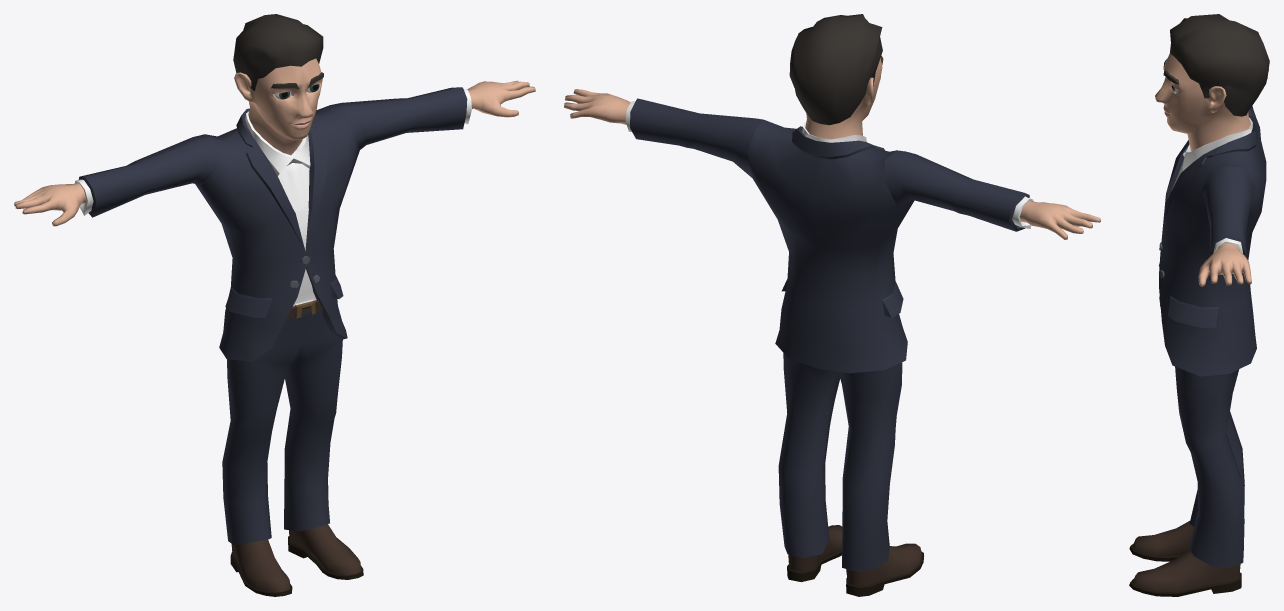
Rendered from maaan.fbx.
3 renders of one model, left to right at view 1: azimuth 30°, elevation 25°; view 2: azimuth 150°, elevation 25°; view 3: azimuth 270°, elevation 25°, orthographic. The views are drawn at different scales.
Parts seen in each view (by area): view 1: man_in_suit.005; view 2: man_in_suit.005; view 3: man_in_suit.005.
Boxes of the visible parts, x1=… form: man_in_suit.005: x1=14, y1=14, x2=535, y2=596; man_in_suit.005: x1=564, y1=14, x2=1100, y2=596; man_in_suit.005: x1=1129, y1=14, x2=1269, y2=596.
Bounding box in the file's own units: 1.53 × 1.55 × 0.3582.
